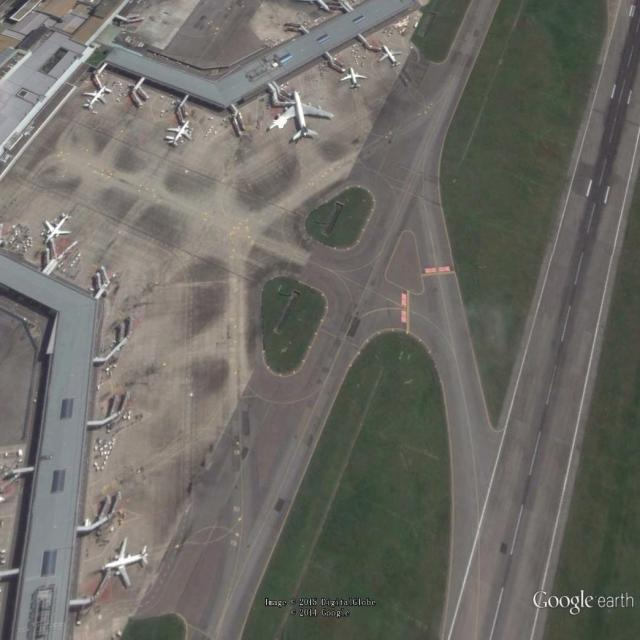aircraft: (266, 89, 339, 143), (100, 536, 151, 590), (164, 117, 197, 150), (45, 212, 75, 245), (375, 44, 406, 70), (339, 67, 372, 90), (83, 84, 108, 112)
